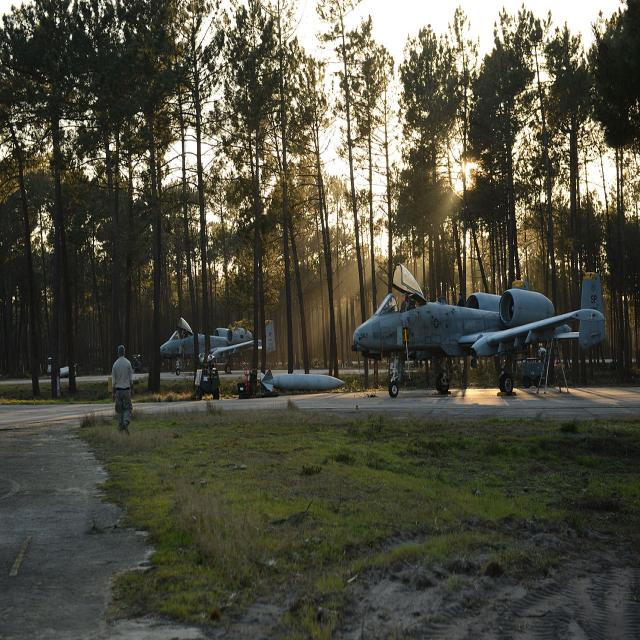MIL_Plane: (351, 263, 607, 398), (159, 316, 277, 376)
